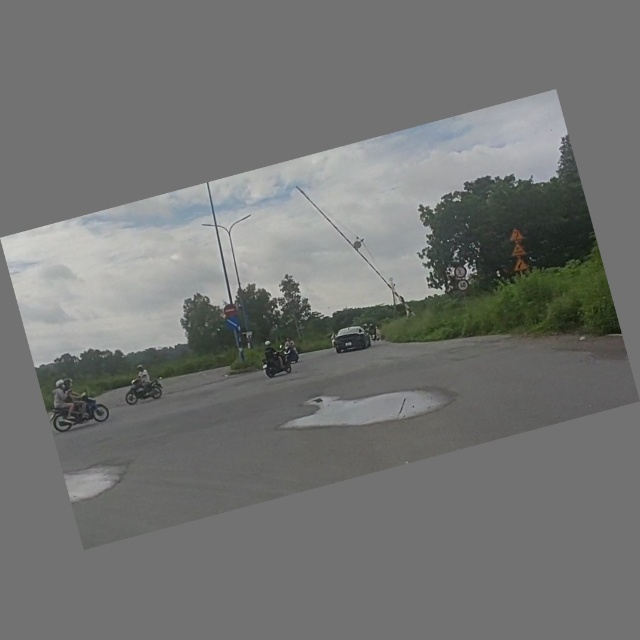P.102: (221, 303, 241, 319)
P.127*40: (456, 277, 471, 292)
R.302a: (227, 316, 243, 332)
W.201b: (512, 255, 531, 276)
W.245a: (511, 240, 529, 259)
W.246c: (507, 225, 528, 244)
